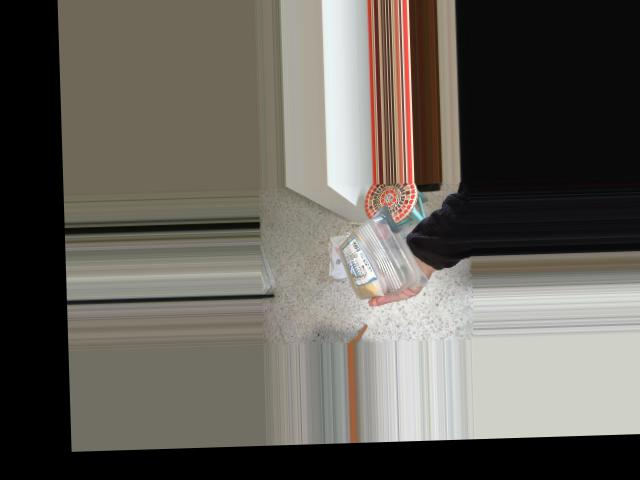cheese: (319, 199, 428, 298)
